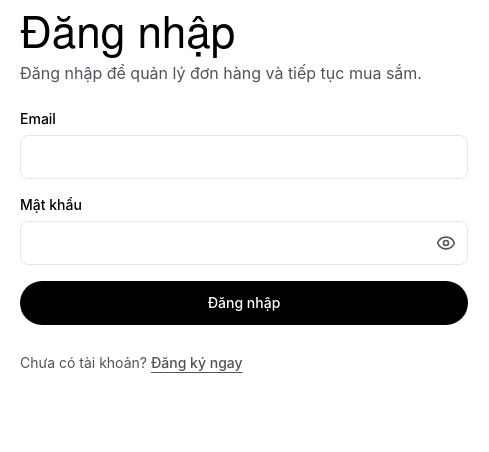
Scenario: LoginPage › shows a Vietnamese retry message when the request has no response
In the field labelled "Email": (244, 157) [20, 135, 468, 179], type "buyer@example.com"
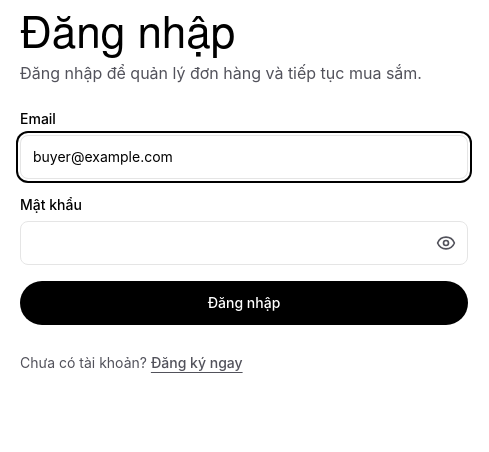
In the password field labelled "Mật khẩu": (244, 243) [20, 221, 468, 265], type "secret123"
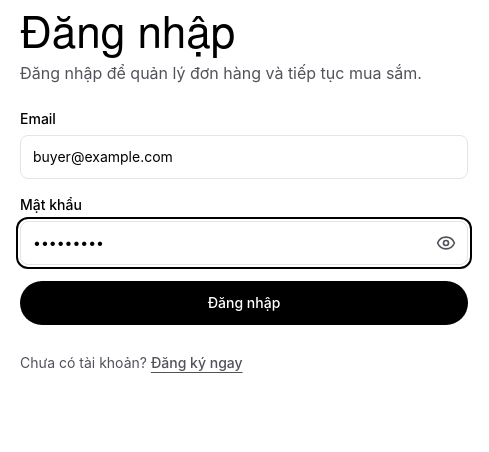
Click the button "Đăng nhập": (244, 303) [20, 281, 468, 325]
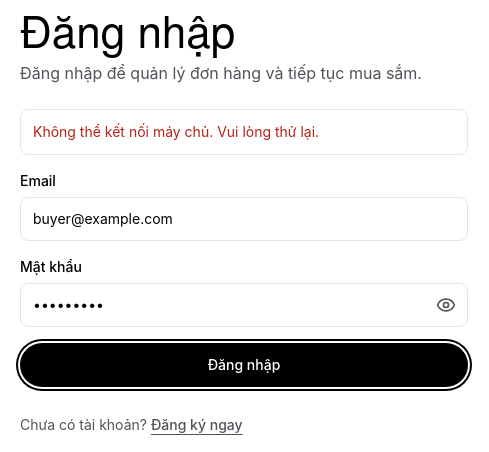
Check: the text "Không thể kết nối máy chủ. Vui lòng thử lại." is shown, box [20, 109, 468, 155]
